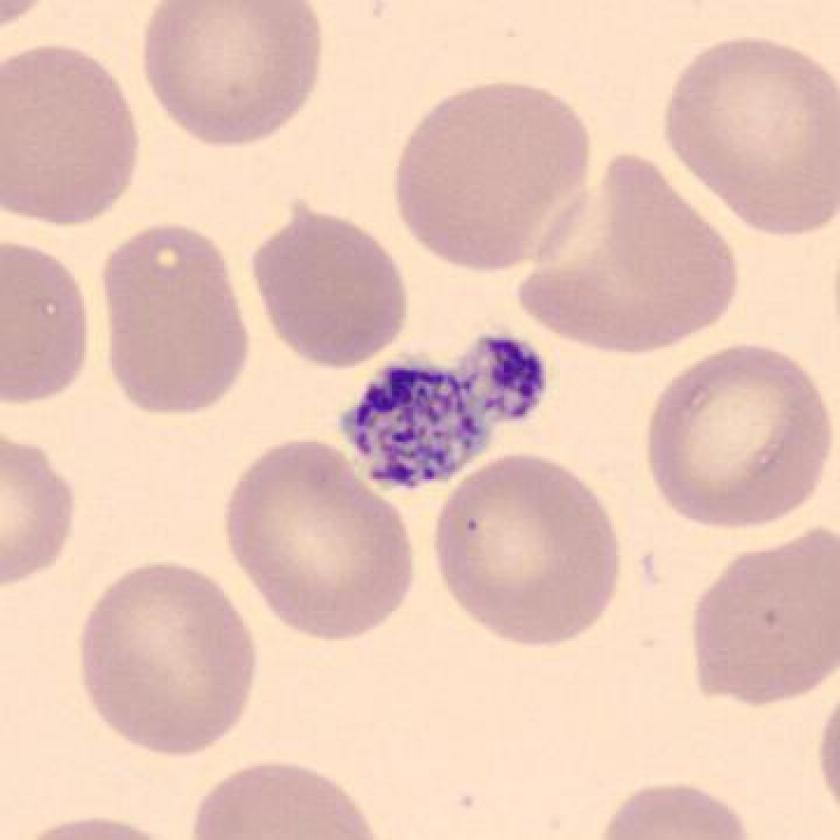platelets: (337, 357, 496, 501), (442, 330, 554, 439)
